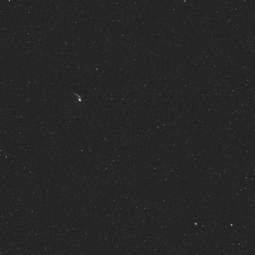debris: (59, 88, 86, 107)
